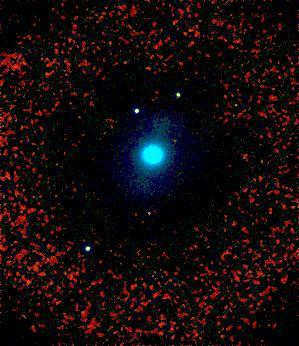star: (135, 196, 165, 226)
